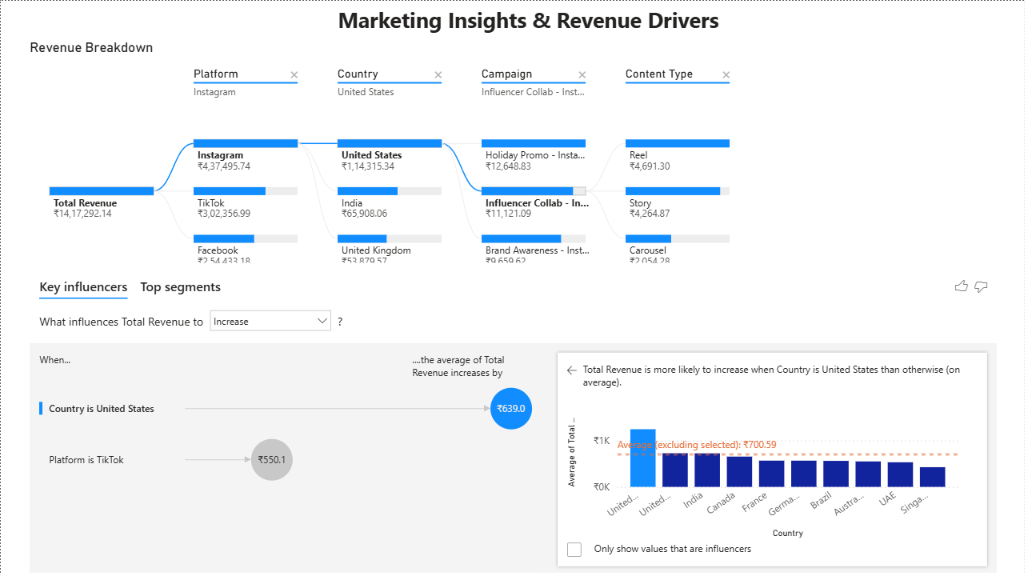

This screenshot's page, from the dashboard's own definition file:
{"tool":"powerbi","page":{"name":"Page 3","canvas":[1280,720],"ordinal":2},"visuals":[{"type":"decompositionTreeVisual","title":"Revenue Breakdown","fields":{"Analyze":["Measures Table.Total Revenue"],"ExplainBy":["Campaign Data.Platform","Campaign Data.Campaign","Campaign Data.Country","Campaign Data.Content Type"]},"box":[31.4,47,1218.7,285.1],"z":0},{"type":"keyDriversVisual","fields":{"Target":["Measures Table.Total Revenue"],"ExplainBy":["Campaign Data.Campaign","Campaign Data.Content Type","Campaign Data.Country","Campaign Data.Platform"]},"box":[31.4,332.1,1218.7,387.7],"z":1},{"type":"textbox","box":[416.2,0,511.7,54.2],"z":2}]}

Visuals, with their boxes in screenshot pixels (x1, y1, x2, y2), scaled from the page's 1280x720 canvas onto the 1025x575 screenshot:
"Revenue Breakdown" decompositionTreeVisual: 25 38 1001 265
keyDriversVisual - Measures Table.Total Revenue x Campaign Data.Campaign: 25 265 1001 574
textbox: 333 0 743 43
